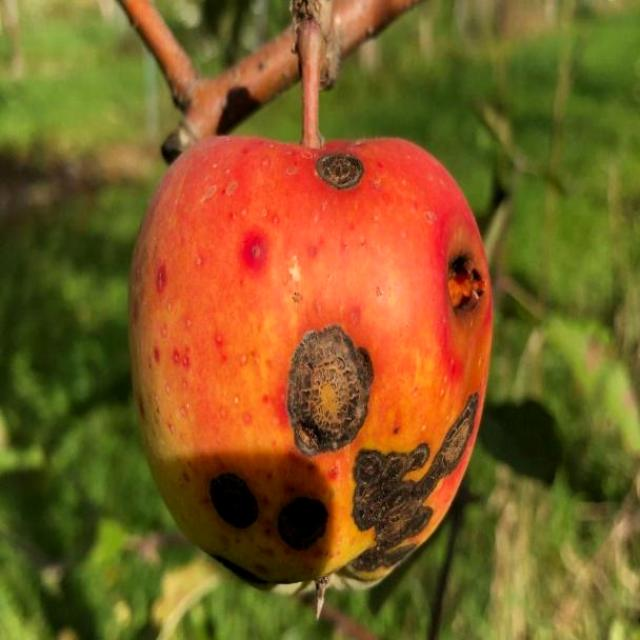SCAB: (113, 105, 514, 601)
